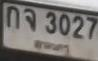letters: (72, 15, 84, 39), (7, 6, 19, 29), (86, 16, 98, 39), (25, 8, 36, 31), (46, 11, 57, 34), (60, 14, 70, 36)
province: (35, 40, 69, 54)
